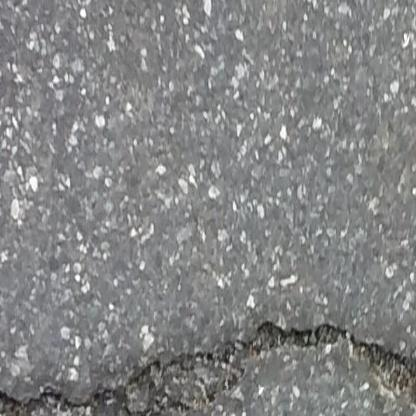Cracks: (0, 319, 416, 416)
